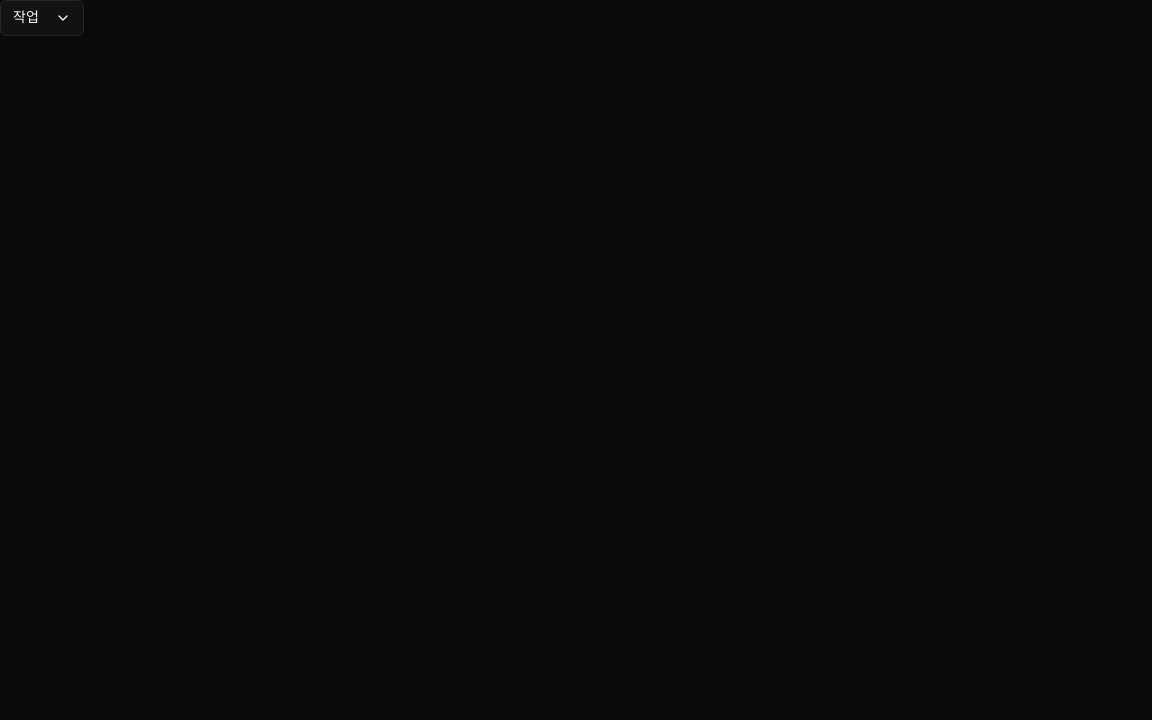
PartyroomsActionsDropdown — status-aware disabled › clicking enabled 강제 종료 opens terminate dialog
This screenshot has width=1152, height=720.
Step 1. Click the button "작업" → (42, 18), box [0, 0, 84, 36]
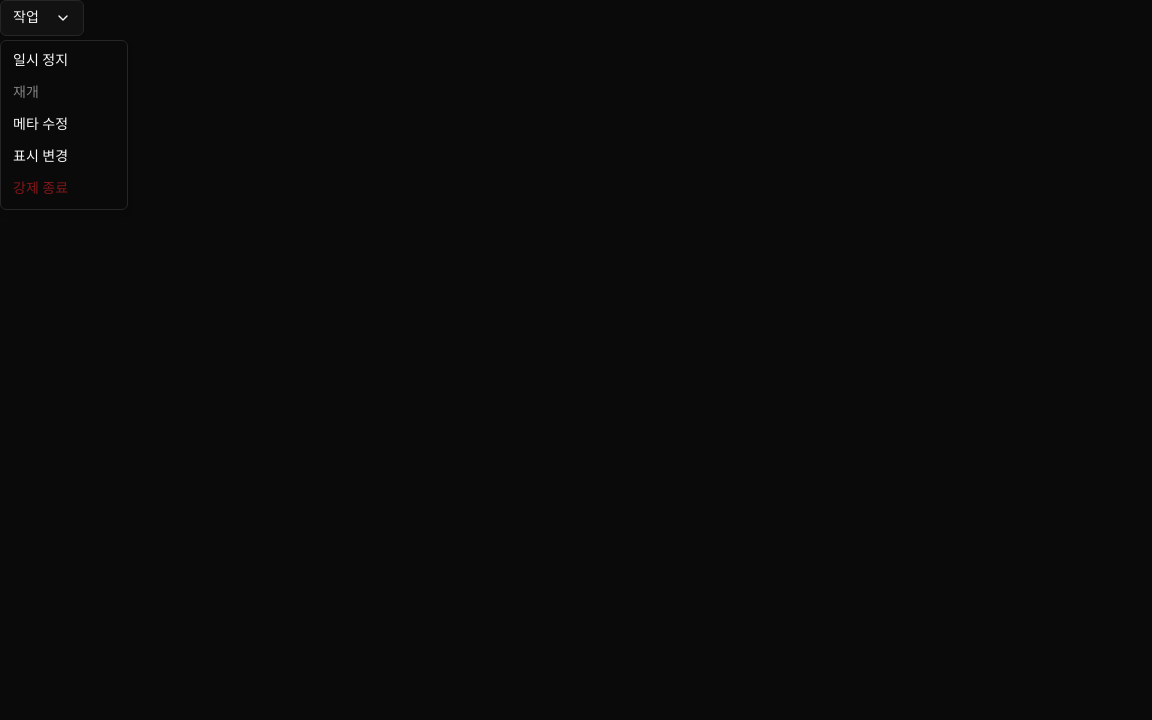
Step 2. Click the menu item "강제 종료" → (40, 188), box [13, 181, 68, 196]
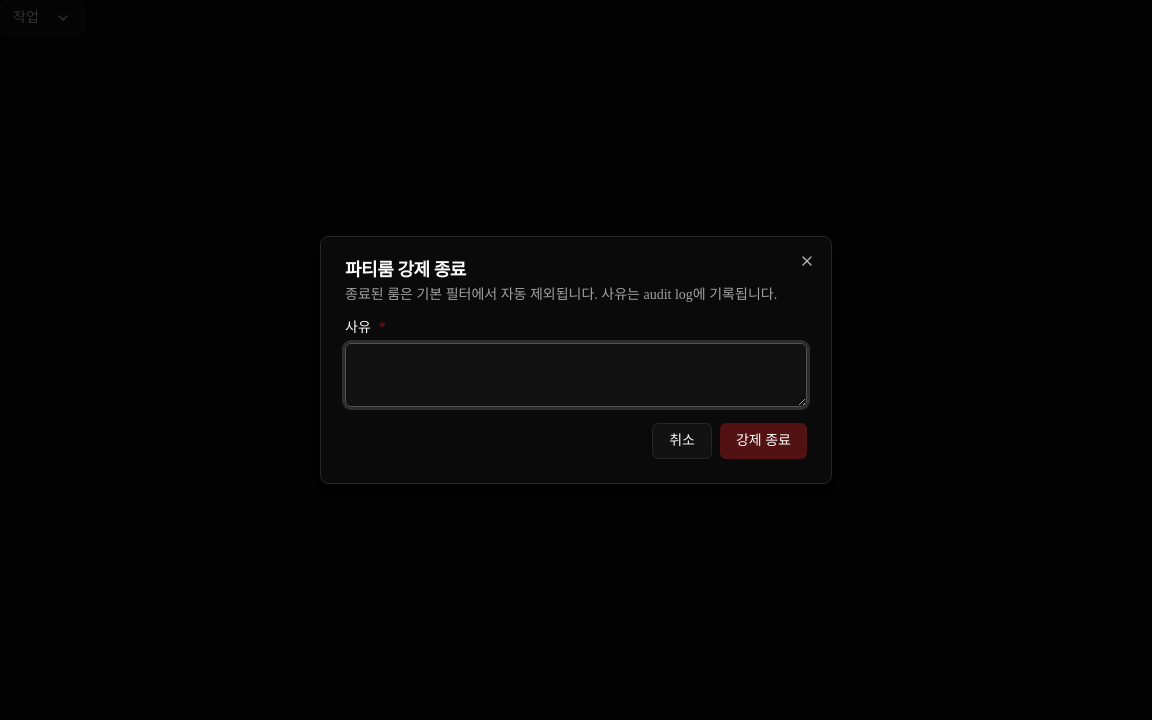
Expected: the heading "파티룸 강제 종료" is shown, [345, 260, 466, 280]
